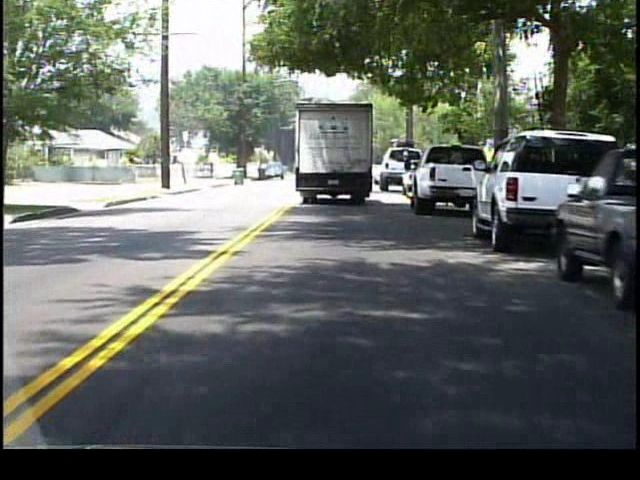person: (209, 161, 218, 182)
